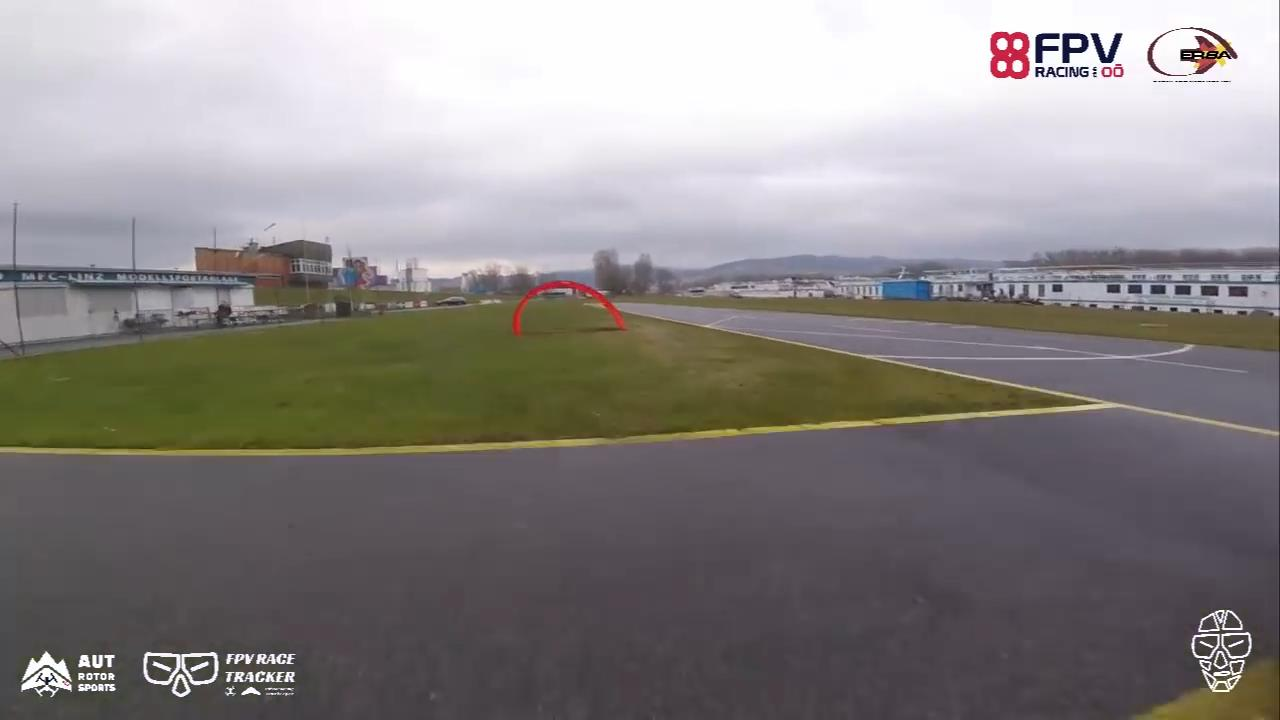gate: (509, 278, 631, 338)
